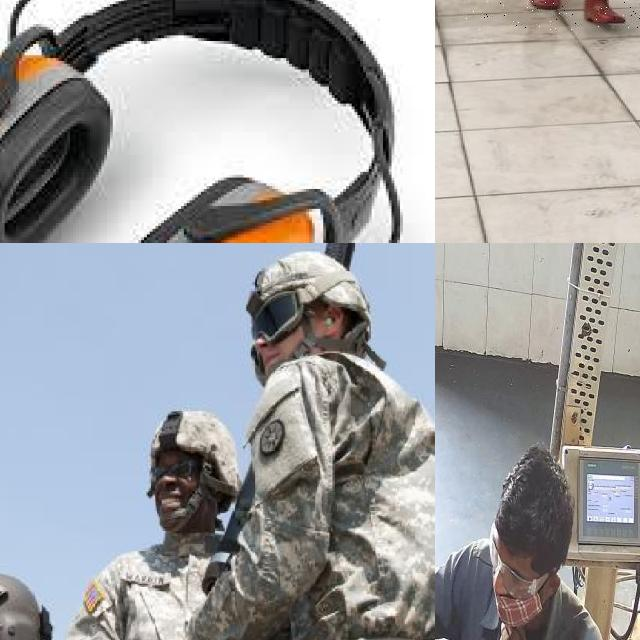Ear-protection: (0, 0, 406, 243)
boots: (573, 0, 621, 23)
face_mask: (482, 539, 555, 627)
face_nomask: (150, 453, 196, 518)
glasses: (487, 524, 549, 601), (243, 290, 308, 344), (148, 460, 194, 486)
hand_noglove: (482, 619, 538, 640)
head_helmet: (237, 243, 373, 325), (142, 400, 234, 458), (0, 569, 51, 640)
head_nohelmet: (488, 443, 584, 568)
person: (215, 243, 435, 640), (72, 402, 263, 640), (435, 442, 618, 640)
